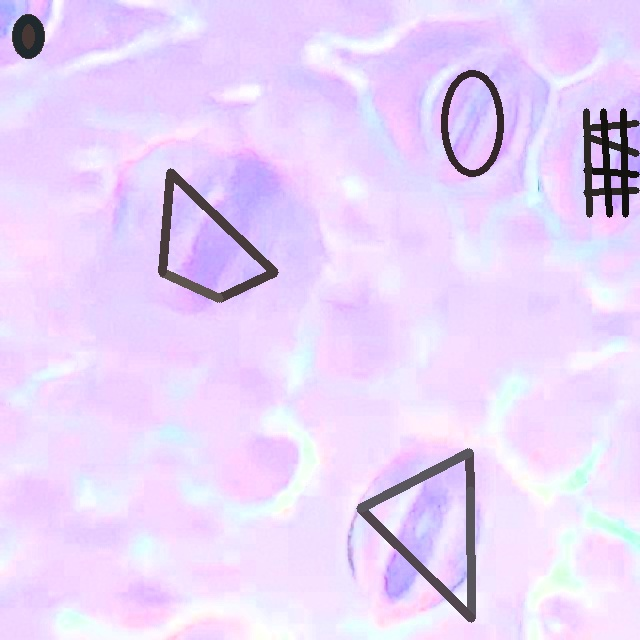open: (356, 448, 473, 621), (159, 169, 277, 301), (439, 68, 504, 177), (583, 108, 639, 217), (12, 14, 44, 58)
